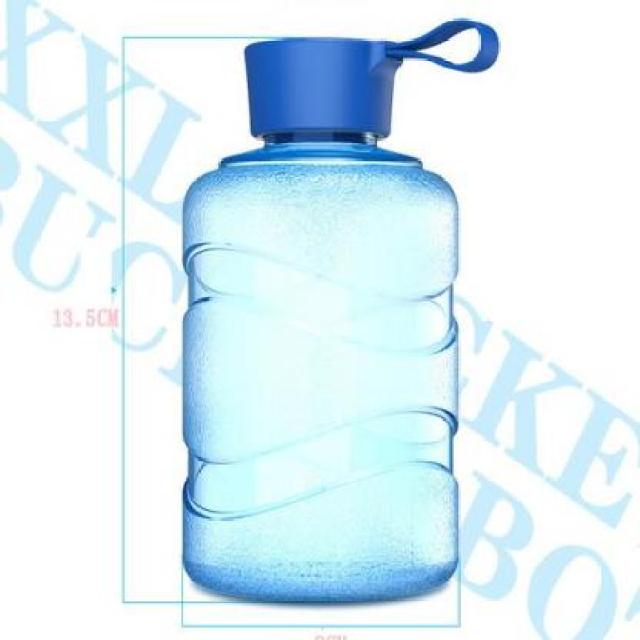coolerbottle: (180, 120, 468, 602)
